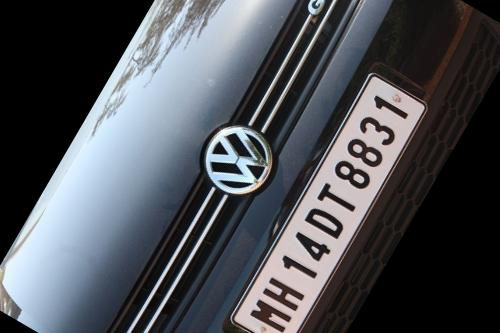plate: (207, 48, 455, 333)
